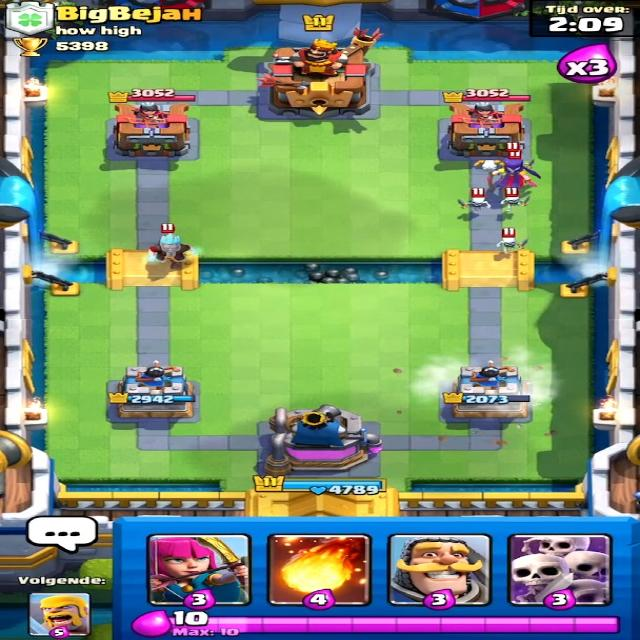Enemy_Ice_Wizard_Troop: (142, 234, 199, 270)
Enemy_Skeleton_Troop: (458, 196, 492, 214), (496, 236, 528, 254), (501, 194, 530, 211)
Enemy_Witch_Troop: (482, 159, 537, 197)
Fireball_Card: (272, 537, 370, 600)
